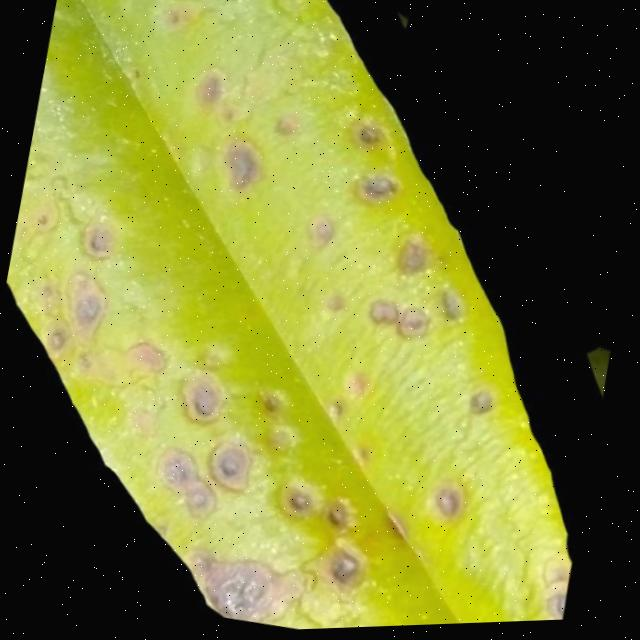mite: (148, 448, 222, 523), (209, 564, 272, 626), (57, 271, 112, 341), (203, 440, 255, 497), (174, 375, 225, 430), (392, 241, 435, 285), (353, 173, 401, 212), (322, 551, 363, 593), (426, 485, 466, 527), (76, 223, 117, 263), (392, 307, 433, 347), (302, 216, 340, 255), (279, 488, 316, 525), (434, 292, 469, 330), (321, 503, 353, 538), (465, 392, 497, 425), (350, 125, 384, 156)
spots: (3, 0, 640, 632)
